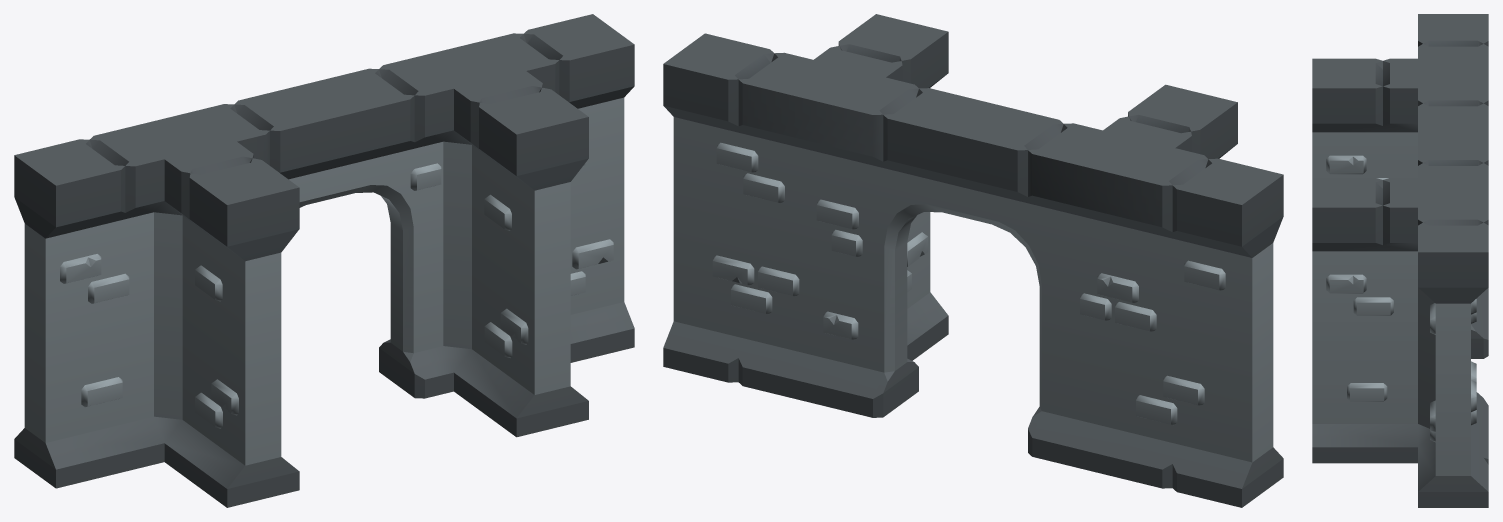
The model's file is wall_doorway_Tsplit.gltf.
3 views of the same model, side by side, from view 1: azimuth 30°, elevation 25°; view 2: azimuth 150°, elevation 25°; view 3: azimuth 270°, elevation 25° (orthographic). The views are drawn at different scales.
Parts seen in each view (by area): view 1: wall_doorway_Tsplit; view 2: wall_doorway_Tsplit; view 3: wall_doorway_Tsplit.
Part boxes in pixels (bbox=[...]): wall_doorway_Tsplit: bbox=[14, 14, 634, 507]; wall_doorway_Tsplit: bbox=[663, 14, 1283, 507]; wall_doorway_Tsplit: bbox=[1312, 14, 1488, 507].
Bounding box in the file's own units: 8 × 4 × 2.5.
Materials: 1 (1 with a texture image).
